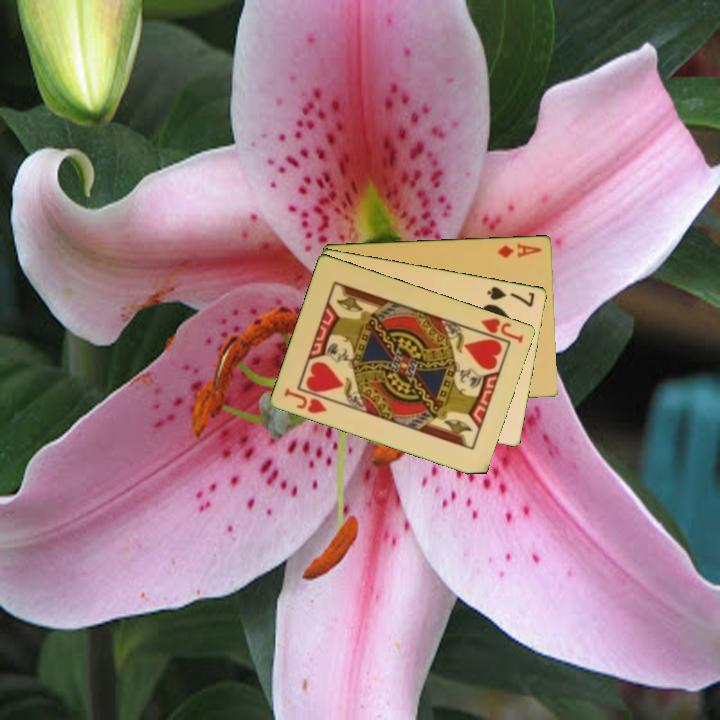7s: (484, 283, 538, 310)
Ad: (494, 239, 545, 260)
Jh: (478, 314, 527, 346), (281, 384, 330, 416)
